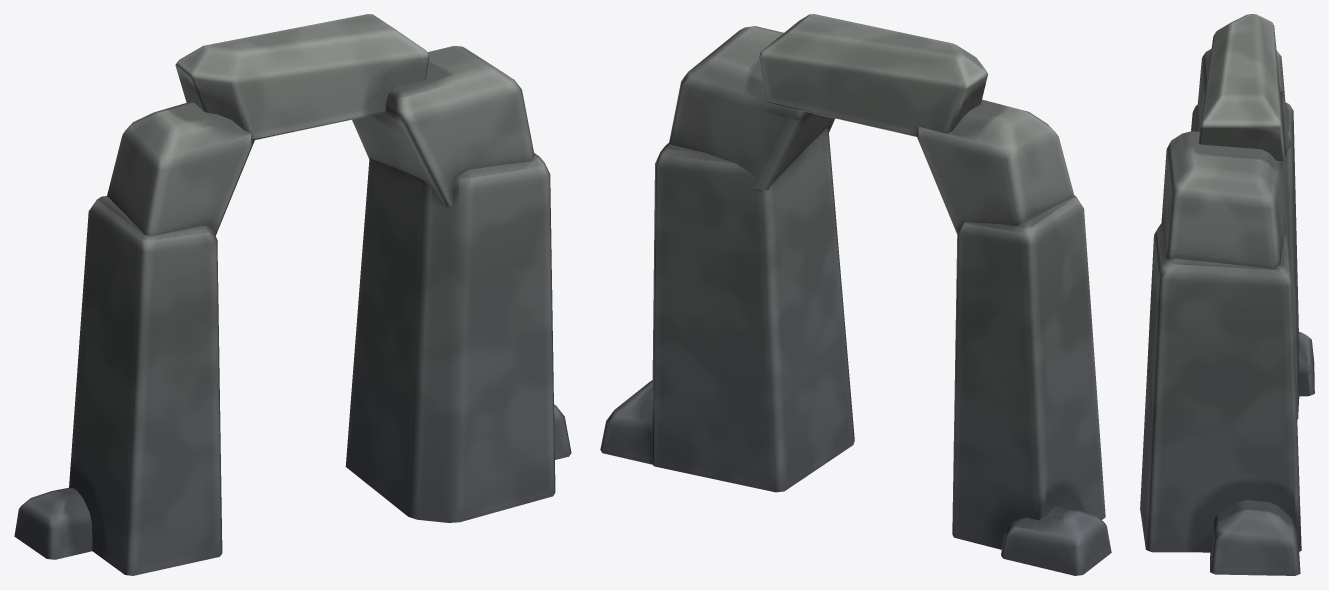
File: arch_3.glb
The picture shows the model from 3 angles, left to right: view 1: azimuth 30°, elevation 25°; view 2: azimuth 150°, elevation 25°; view 3: azimuth 270°, elevation 25°; orthographic projection. The views are drawn at different scales.
Parts seen in each view (by area): view 1: arch_3; view 2: arch_3; view 3: arch_3.
Boxes of the visible parts, box(x1,y1,x2,y2) form: arch_3: box(14, 14, 571, 575); arch_3: box(600, 14, 1111, 575); arch_3: box(1140, 14, 1314, 575).
Size of the model in its own units: 3.8 by 3.4 by 1.3.
Materials: 1 (1 with a texture image).
